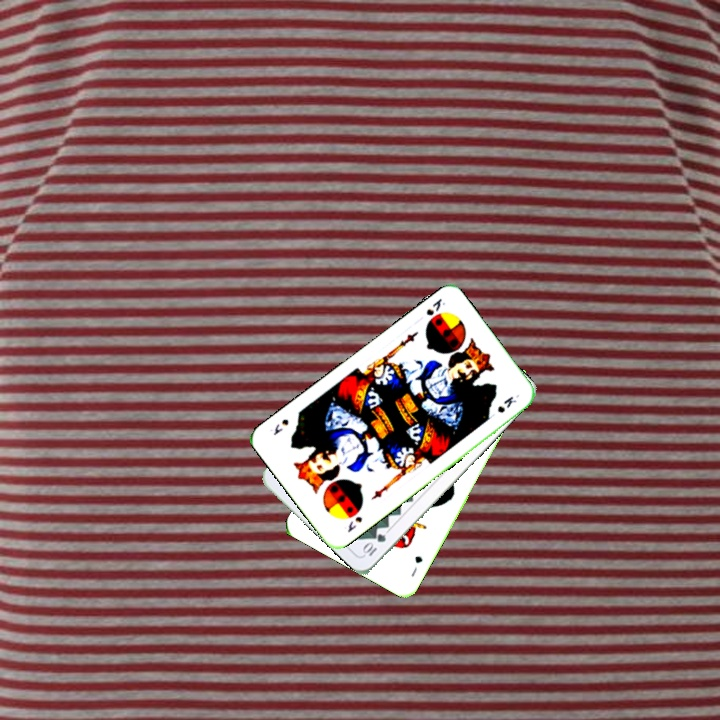G10: (359, 529, 389, 559)
GU: (407, 552, 425, 579)
SK: (422, 294, 448, 318), (343, 512, 365, 535)
